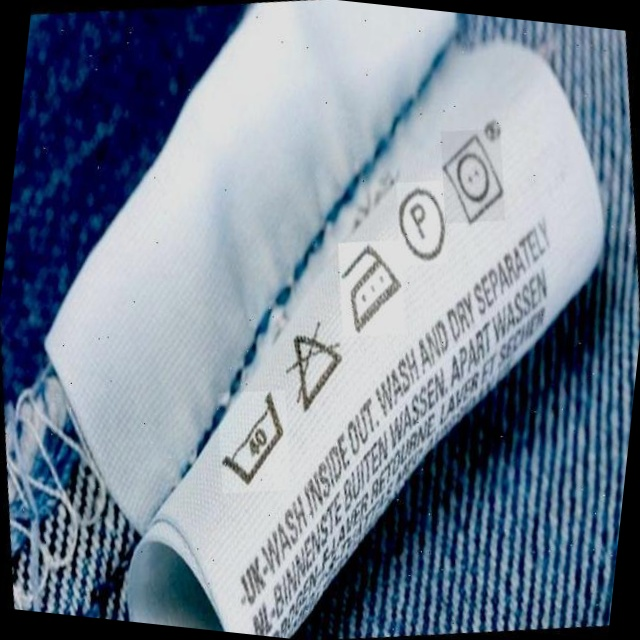40C: (219, 388, 293, 489)
DN_bleach: (285, 323, 349, 415)
dry_clean_any_solvent_except_trichloroethylene: (394, 186, 450, 262)
iron_high: (336, 240, 410, 331)
tumble_dry_medium: (436, 131, 512, 225)
